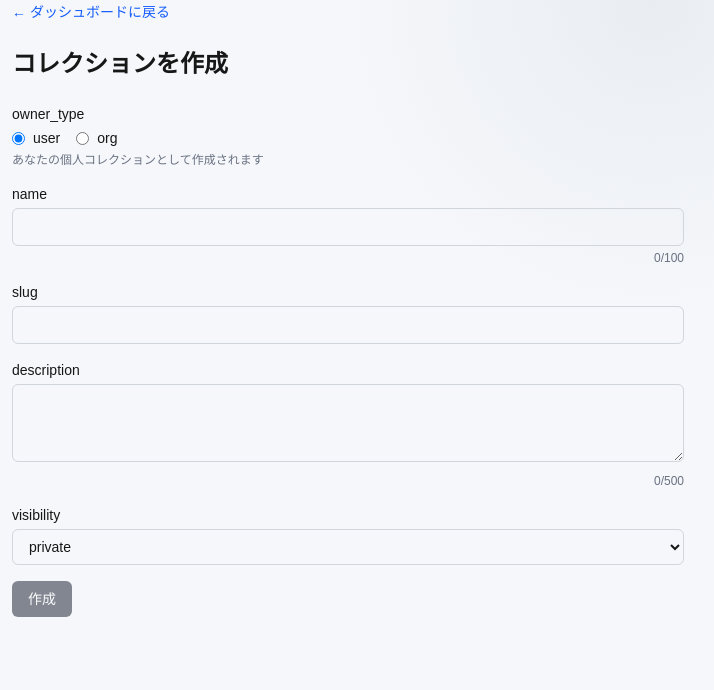
NewCollectionPage › shows API error when create fails
The image size is (714, 690).
Type "Lab Picks" into the field labelled "name".
click(348, 227); type("Lab Picks")  # box [12,208,684,246]
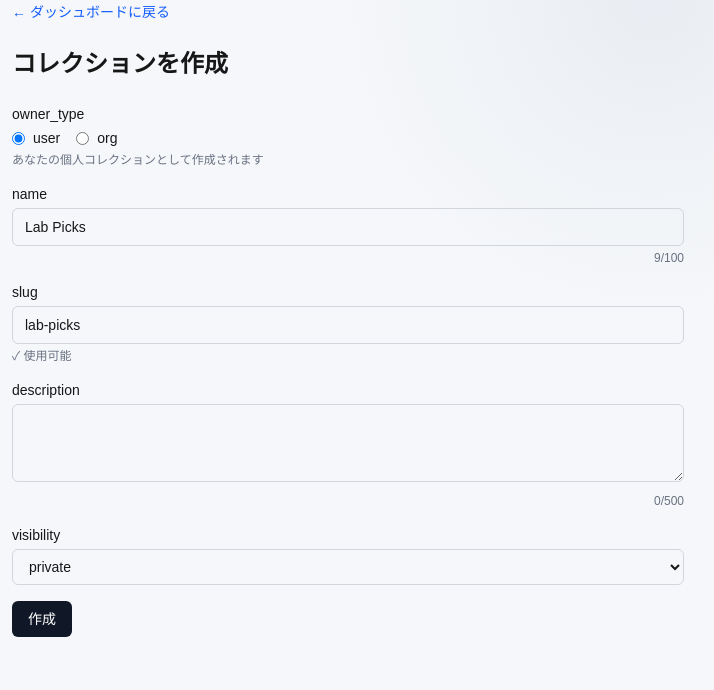
Expected: the text "✓" is shown, [12,349,24,363]
Click the button "作成".
click(42, 619)  # box [12,601,72,637]
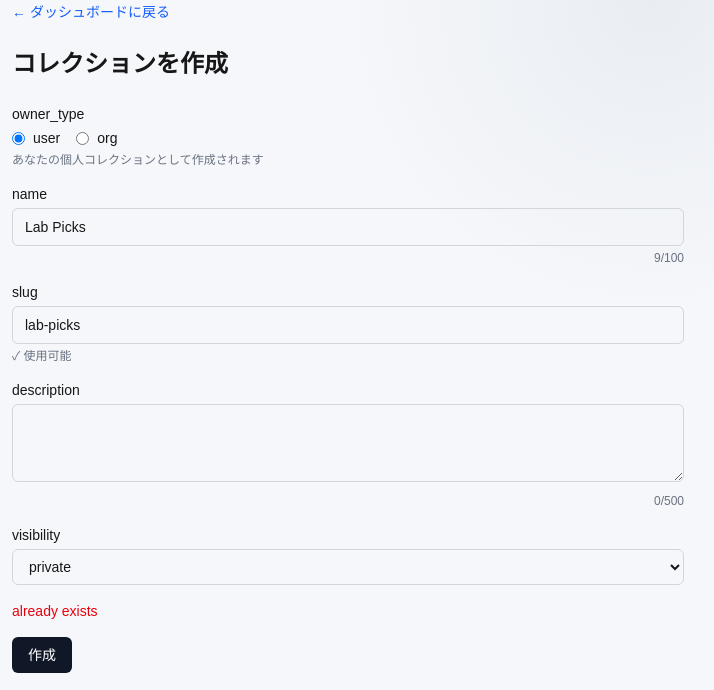
Expected: the text "already exists" is shown, [12,603,98,619]
